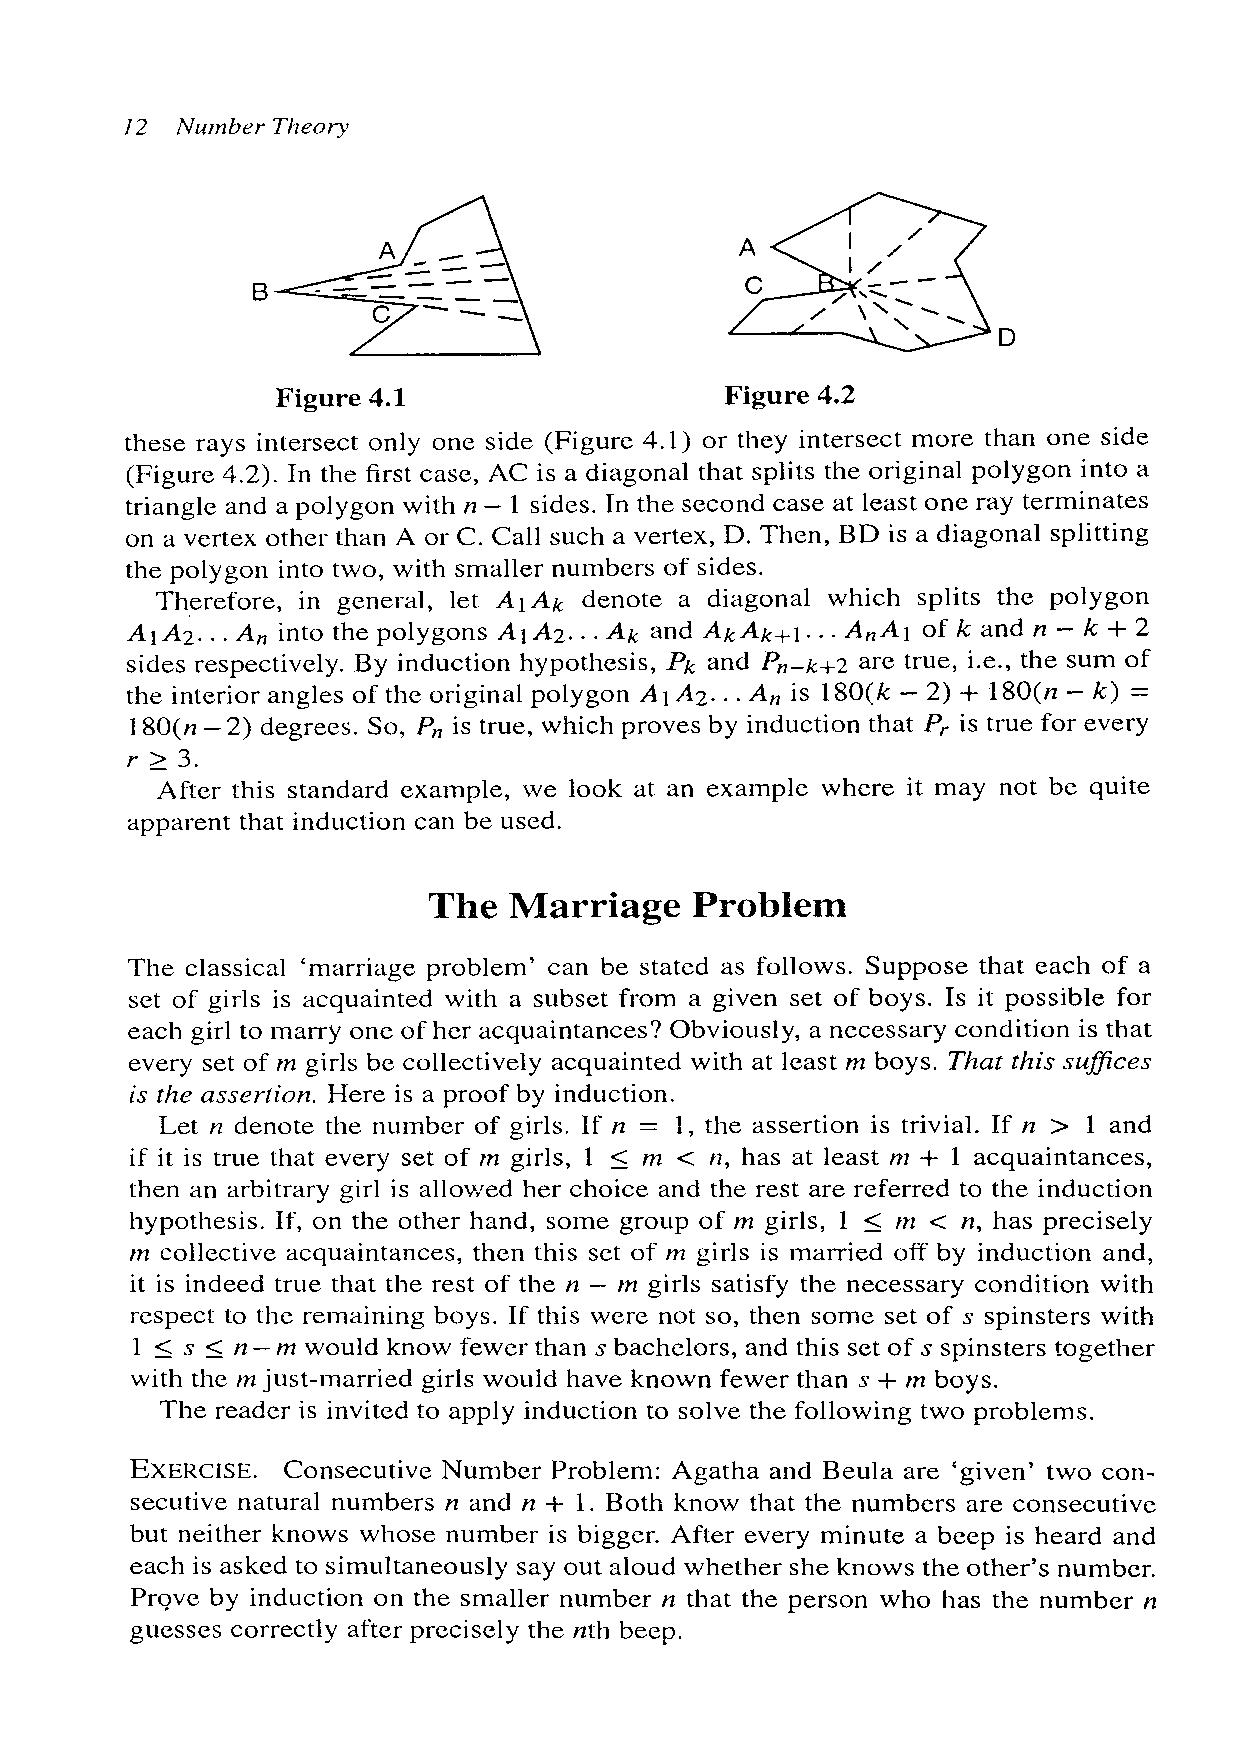chapter: (413, 880, 847, 926)
content: (123, 951, 1162, 1648), (117, 172, 1155, 839)
content_chapter: (169, 109, 352, 142)
content_pagenumber: (117, 103, 154, 141)
